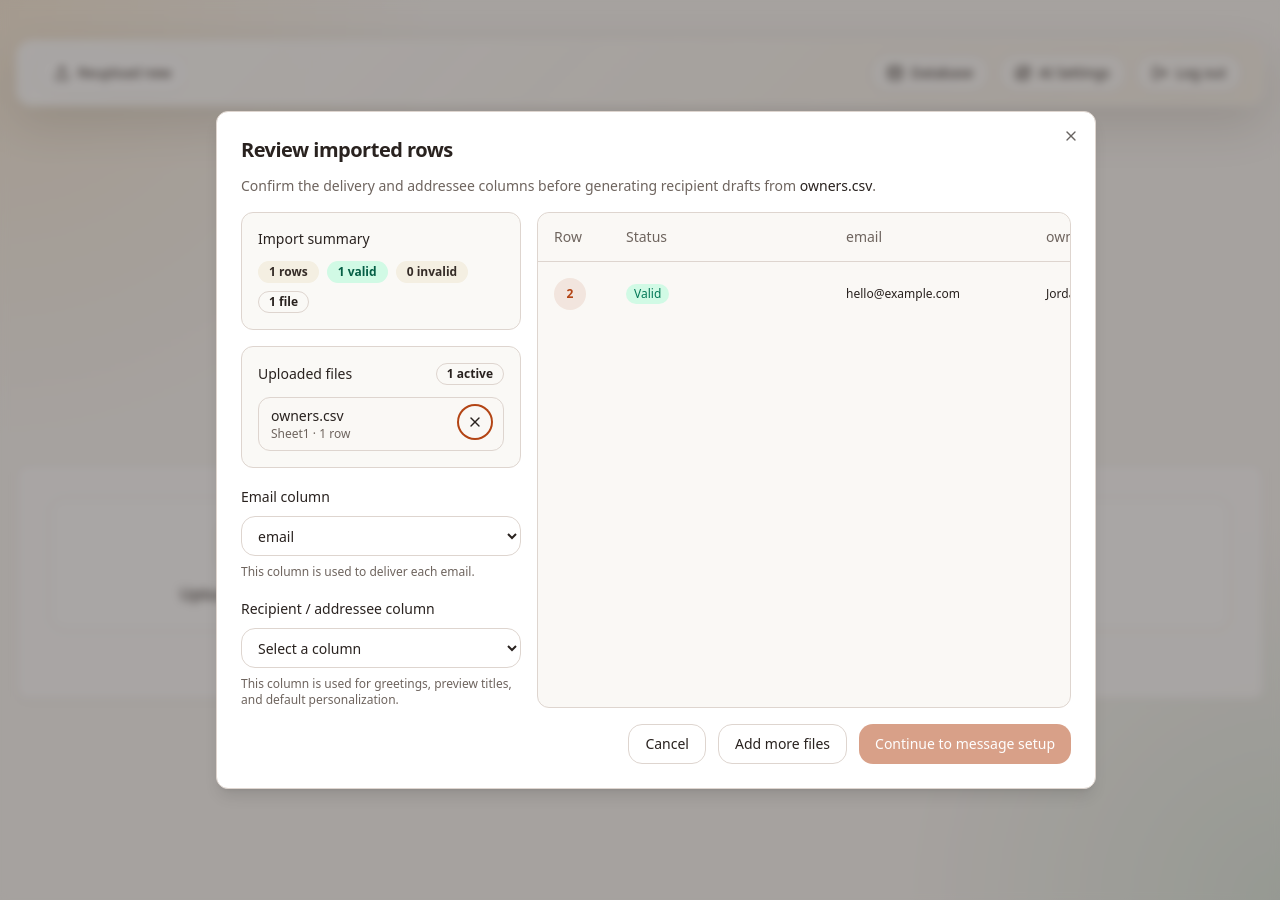
CampaignBuilderPage › requires selecting a recipient column before continuing
Check: the button "Continue to message setup" is disabled, box [859, 724, 1071, 764]
Select "owner_name" in the dropdown labelled "Recipient / addressee column" at (381, 648), box [241, 628, 521, 668]
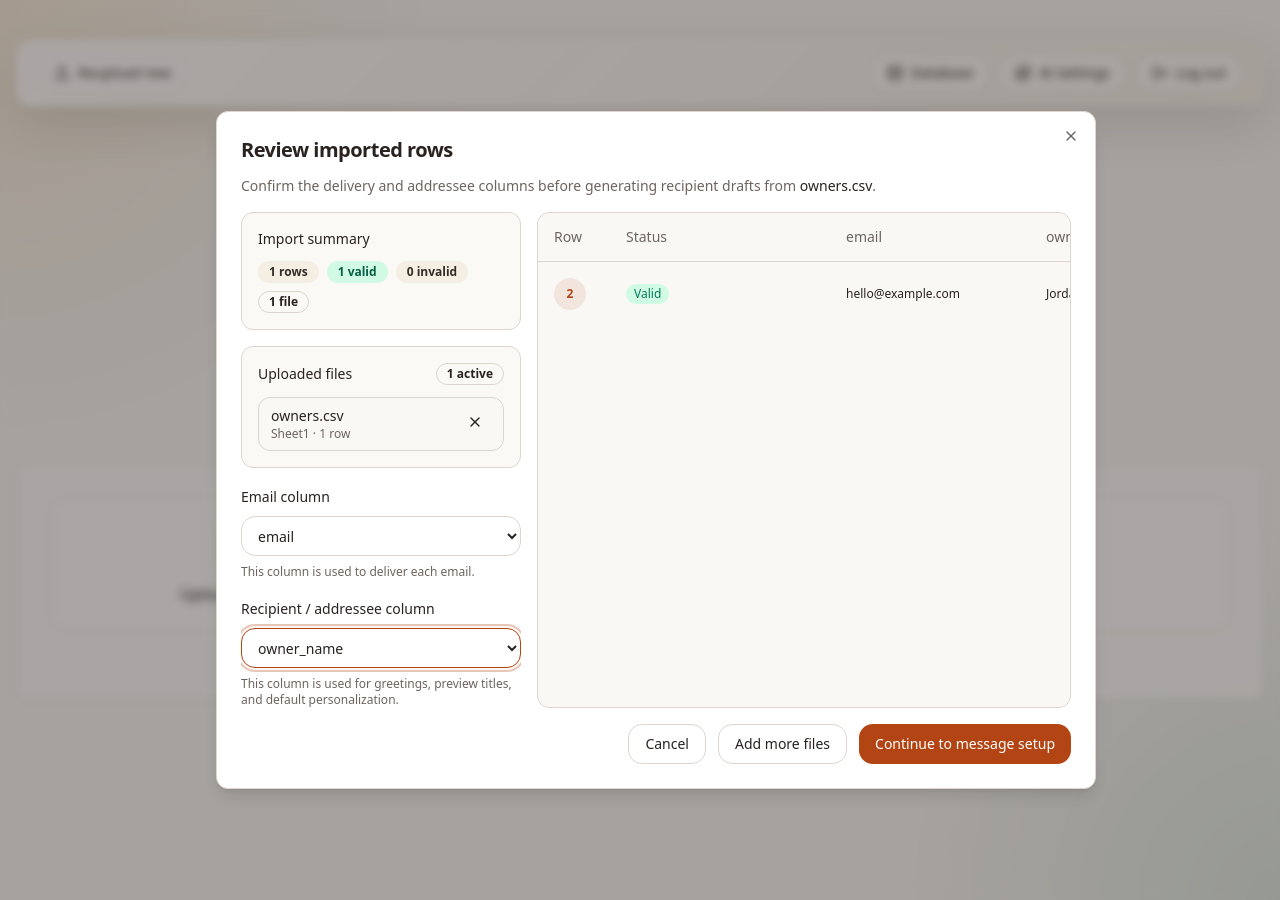
Check: the button "Continue to message setup" is enabled
Click the button "Continue to message setup".
click(965, 744)  # box [859, 724, 1071, 764]
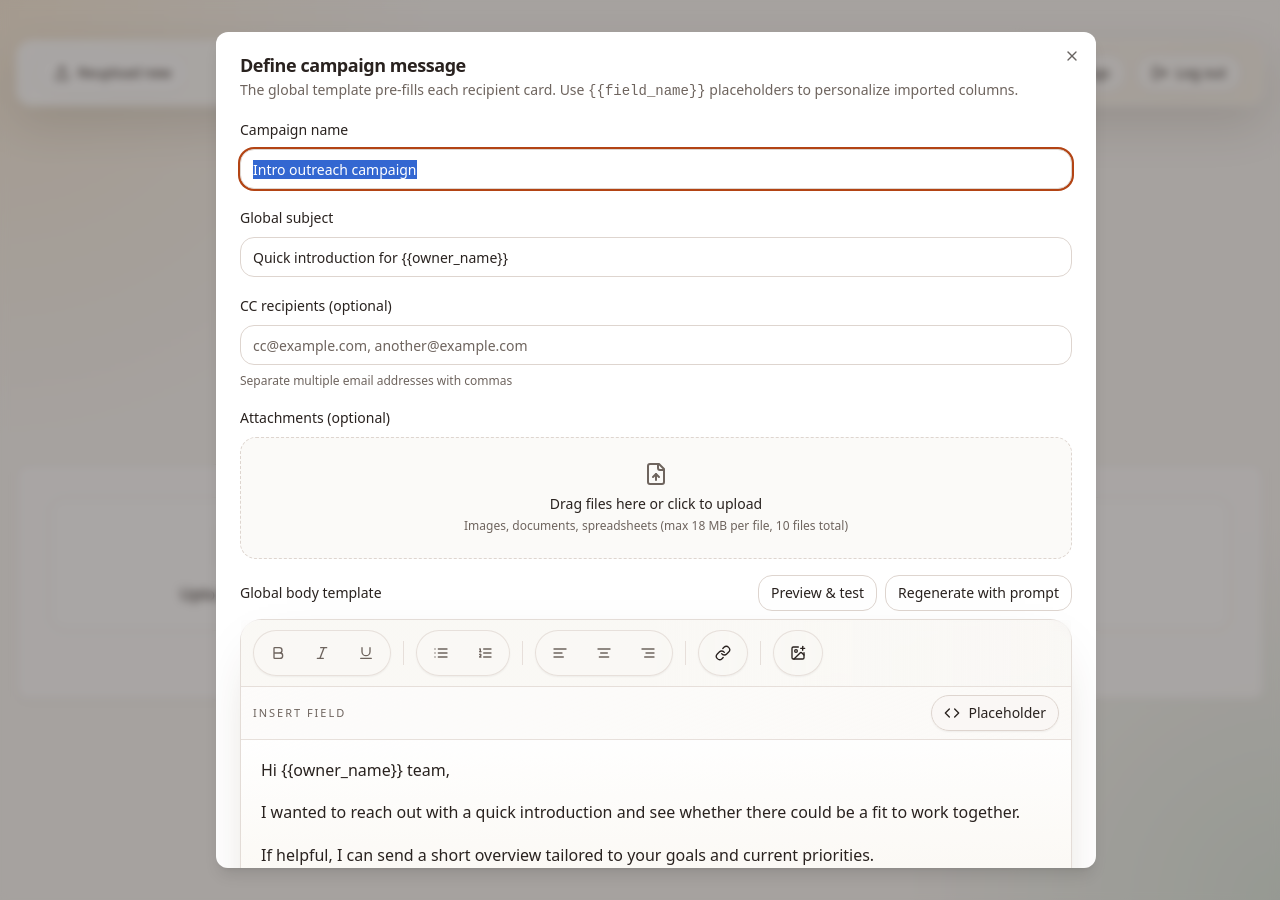
Check: the heading "Define campaign message" is shown, box [240, 53, 466, 77]
Check: the field labelled "Global subject" holds "Quick introduction for {{owner_name}}", box [240, 237, 1072, 277]
